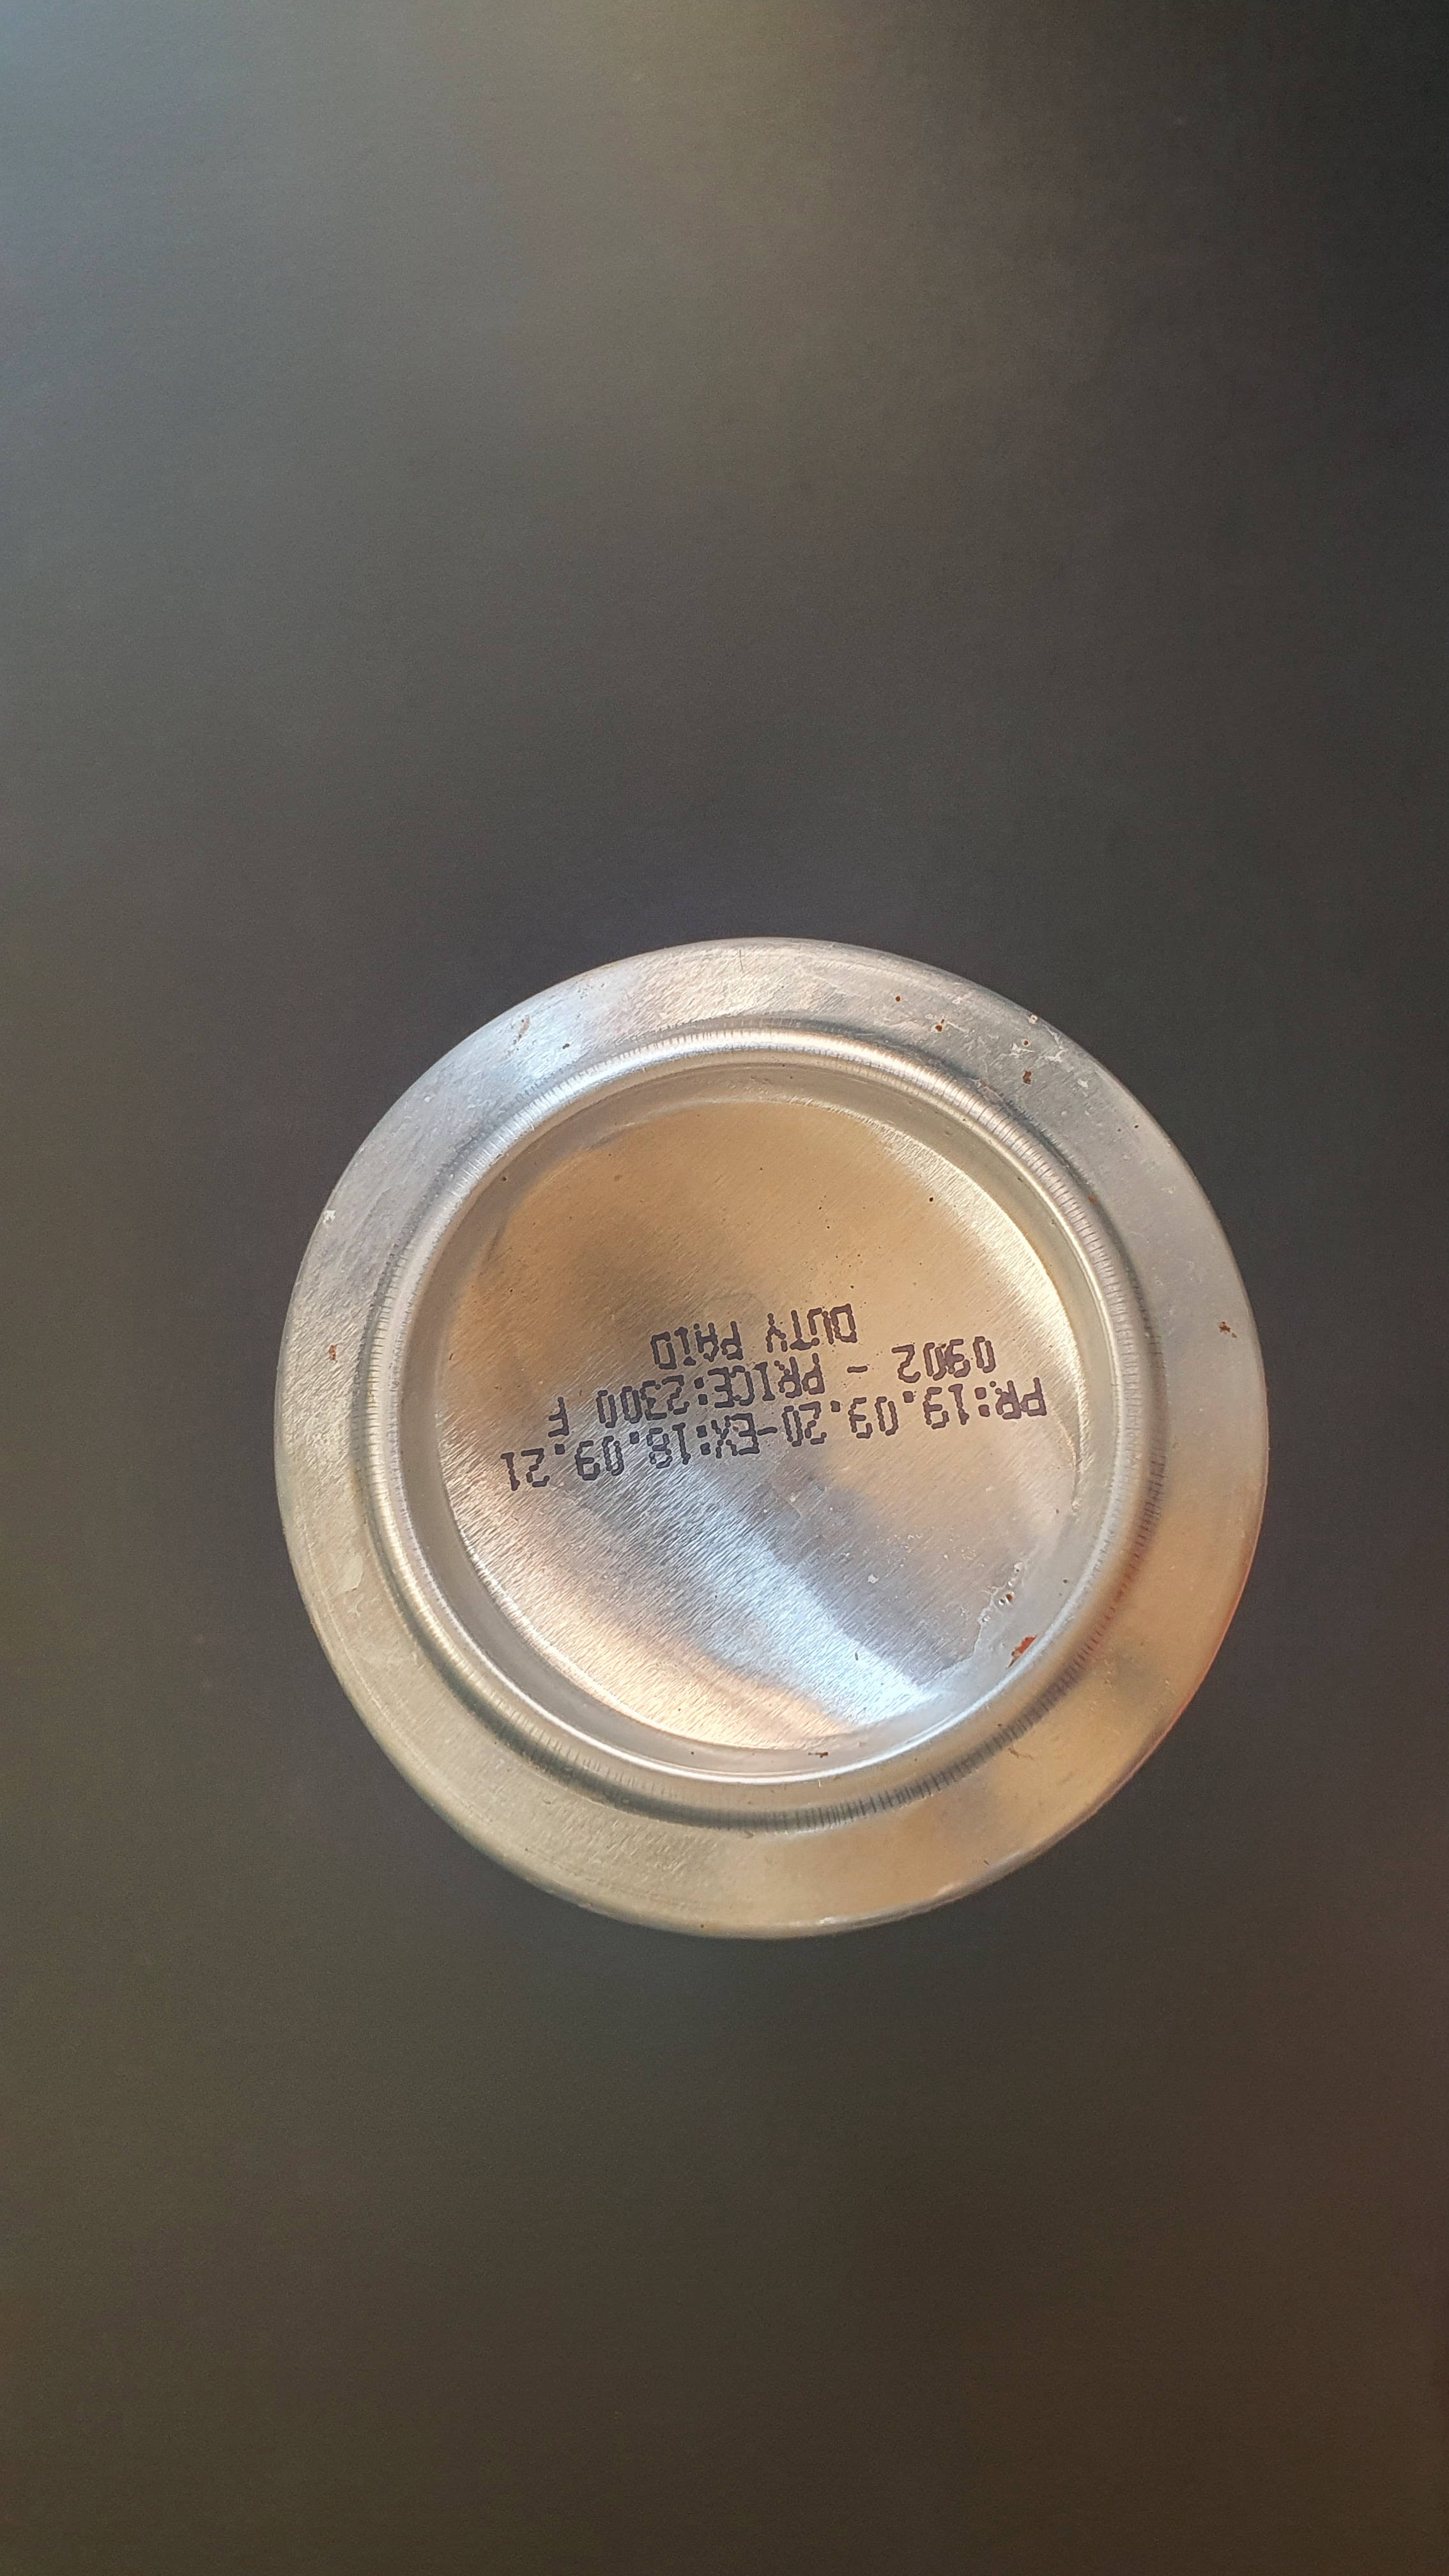metal: (260, 888, 1277, 1960)
